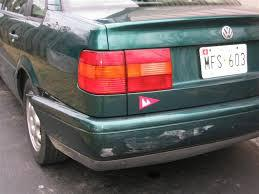rear-bumper-dent: (60, 111, 250, 166)
